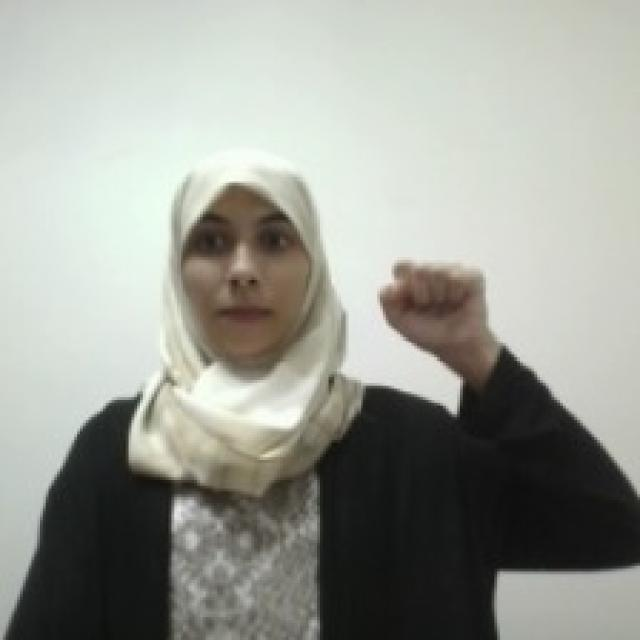yes: (374, 251, 492, 354)
